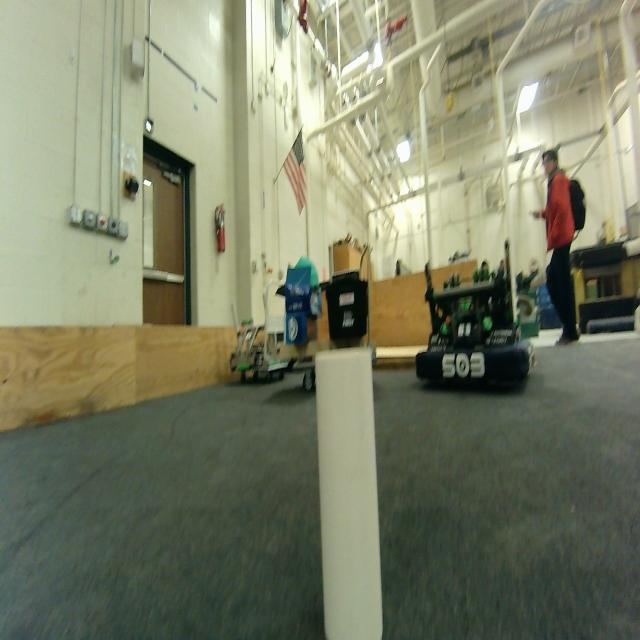coral: (316, 346, 382, 639)
